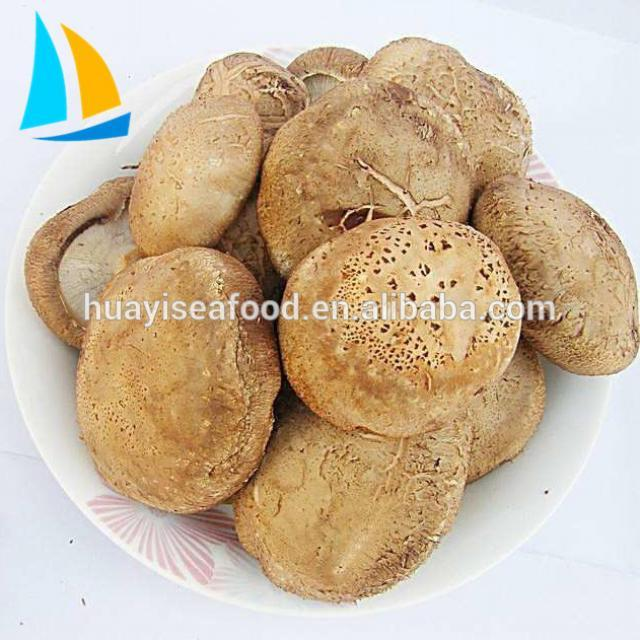Lentinus edodes: (76, 250, 280, 515), (280, 213, 524, 433), (232, 427, 471, 602), (264, 79, 474, 271), (479, 173, 639, 375), (361, 35, 527, 186), (130, 95, 258, 256), (27, 177, 141, 351)
